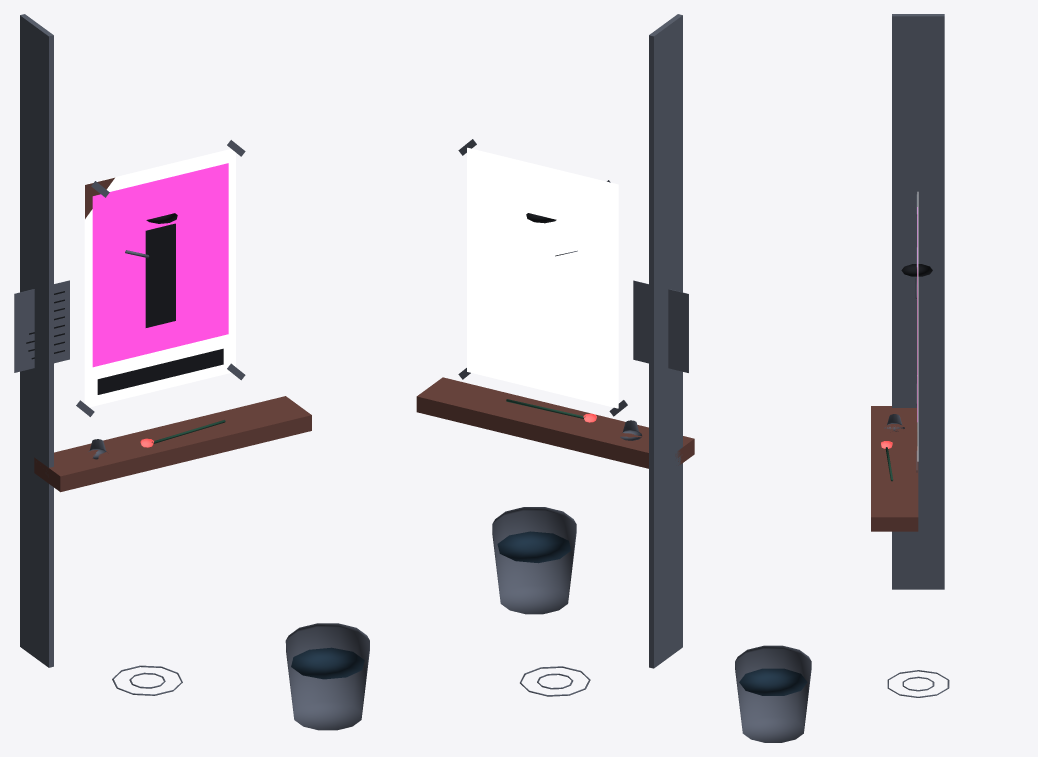
File: room-detail-trasa-props.glb
The picture shows the model from 3 angles, left to right: view 1: azimuth 30°, elevation 25°; view 2: azimuth 150°, elevation 25°; view 3: azimuth 270°, elevation 25°; orthographic projection. The views are drawn at different scales.
Visible parts, largest first — view 1: rd-trasa-poster, rd-trasa-drip; view 2: rd-trasa-poster, rd-trasa-drip; view 3: rd-trasa-drip, rd-trasa-poster.
Boxes of the visible parts, x1,y1,x2,y2 form: rd-trasa-poster: (14,140,311,492); rd-trasa-drip: (20,14,369,730); rd-trasa-poster: (416,139,694,468); rd-trasa-drip: (492,14,682,696); rd-trasa-drip: (735,14,949,742); rd-trasa-poster: (871,192,932,531).
Size of the model in its own units: 1.08 by 2.6 by 1.09.
Materials: 1 (1 with a texture image).
